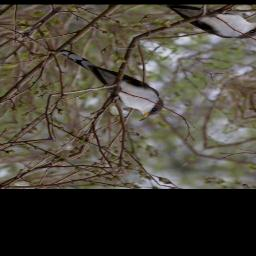Cuckoo: (36, 46, 180, 125)
